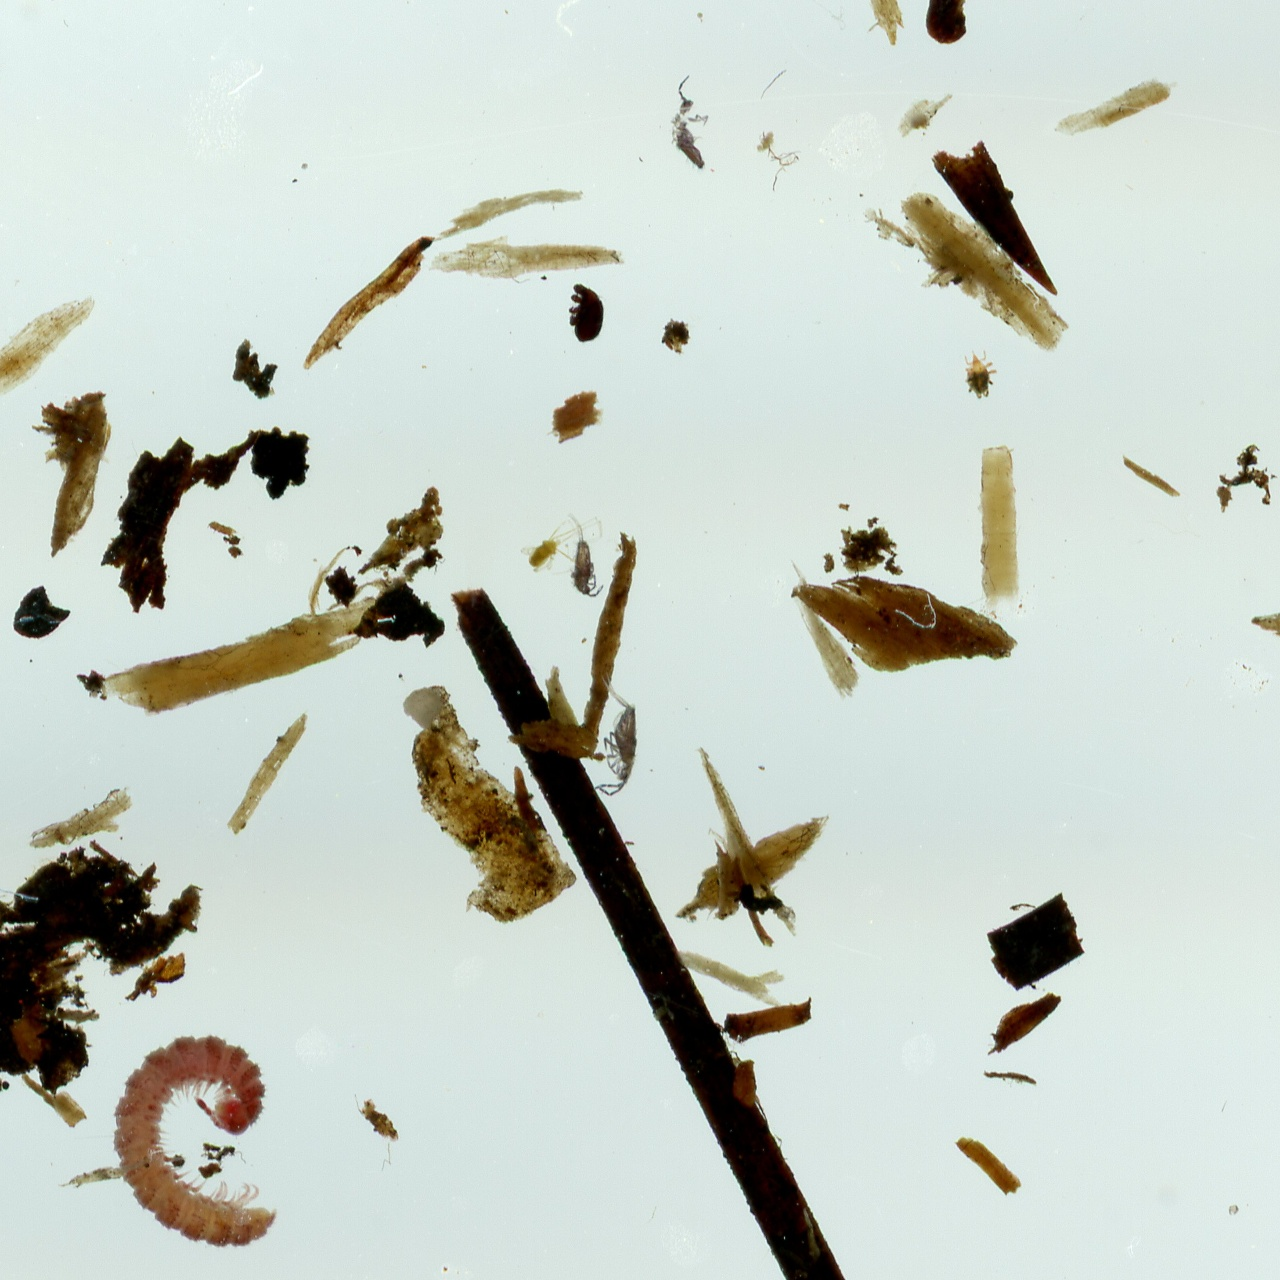arthropod: (104, 1028, 281, 1252), (511, 493, 618, 593), (591, 667, 645, 802), (663, 70, 716, 178), (565, 509, 607, 601), (350, 1091, 401, 1146), (565, 280, 607, 346), (961, 346, 1001, 402)
